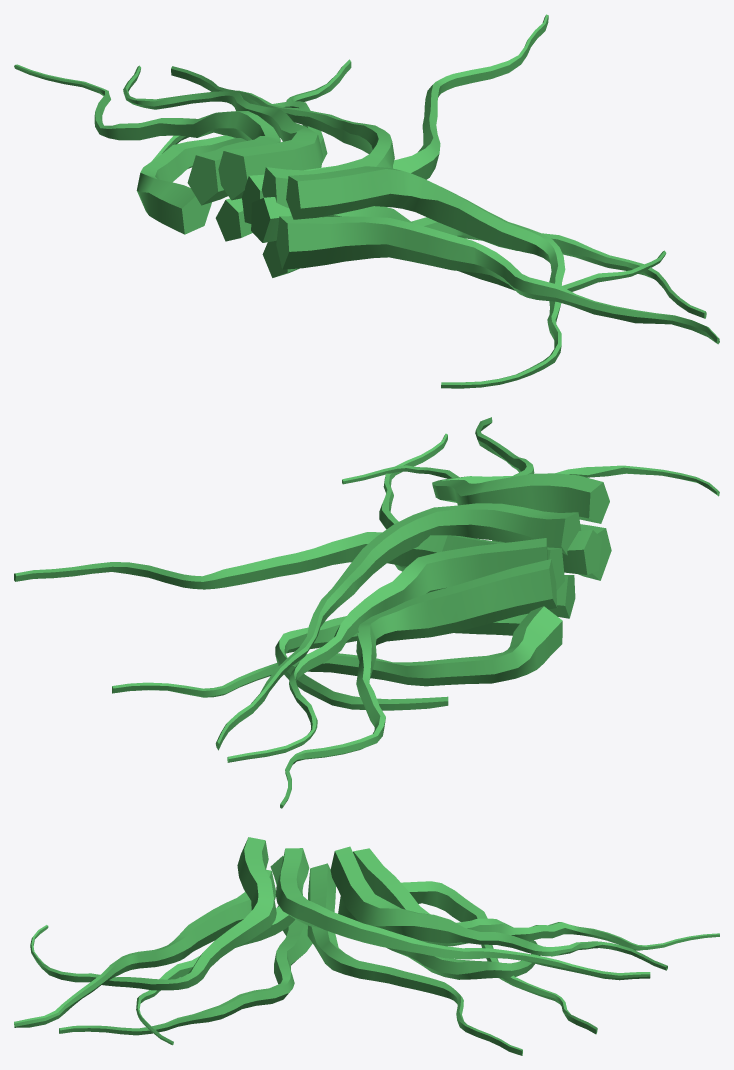
File: roots_set_A.fbx
The picture shows the model from 3 angles, top to bottom: view 1: azimuth 30°, elevation 25°; view 2: azimuth 150°, elevation 25°; view 3: azimuth 270°, elevation 25°; orthographic projection. The views are drawn at different scales.
Parts seen in each view (by area): view 1: roots_set_A_F, roots_set_A_G, roots_set_A_I, roots_set_A_H, roots_set_A_D, roots_set_A_C, roots_set_A_A, roots_set_A_E, roots_set_A_B, roots_set_A_J; view 2: roots_set_A_I, roots_set_A_C, roots_set_A_D, roots_set_A_H, roots_set_A_A, roots_set_A_G, roots_set_A_J, roots_set_A_E, roots_set_A_B, roots_set_A_F; view 3: roots_set_A_H, roots_set_A_C, roots_set_A_G, roots_set_A_A, roots_set_A_F, roots_set_A_I, roots_set_A_B, roots_set_A_D, roots_set_A_J, roots_set_A_E.
Part boxes in pixels (x1,y1,x2,y2): roots_set_A_F: (276,216,719,344); roots_set_A_G: (286,166,565,388); roots_set_A_I: (14,64,280,205); roots_set_A_H: (123,65,323,200); roots_set_A_D: (136,59,351,234); roots_set_A_C: (171,66,394,207); roots_set_A_A: (242,14,548,223); roots_set_A_E: (251,197,666,291); roots_set_A_B: (262,217,706,318); roots_set_A_J: (151,101,327,241); roots_set_A_I: (280,559,557,808); roots_set_A_C: (215,503,581,750); roots_set_A_D: (112,606,562,697); roots_set_A_H: (227,538,547,762); roots_set_A_A: (14,532,564,590); roots_set_A_G: (432,465,719,523); roots_set_A_J: (275,613,527,710); roots_set_A_E: (342,465,601,574); roots_set_A_B: (379,433,575,618); roots_set_A_F: (475,417,611,580); roots_set_A_H: (330,846,667,970); roots_set_A_C: (275,848,650,980); roots_set_A_G: (30,837,276,990); roots_set_A_A: (307,863,522,1055); roots_set_A_F: (14,869,275,1027); roots_set_A_I: (353,848,719,950); roots_set_A_B: (59,919,312,1035); roots_set_A_D: (401,881,597,1034); roots_set_A_J: (338,896,539,979); roots_set_A_E: (136,856,295,1045).
Bounding box in the file's own units: 457 × 114 × 774.
